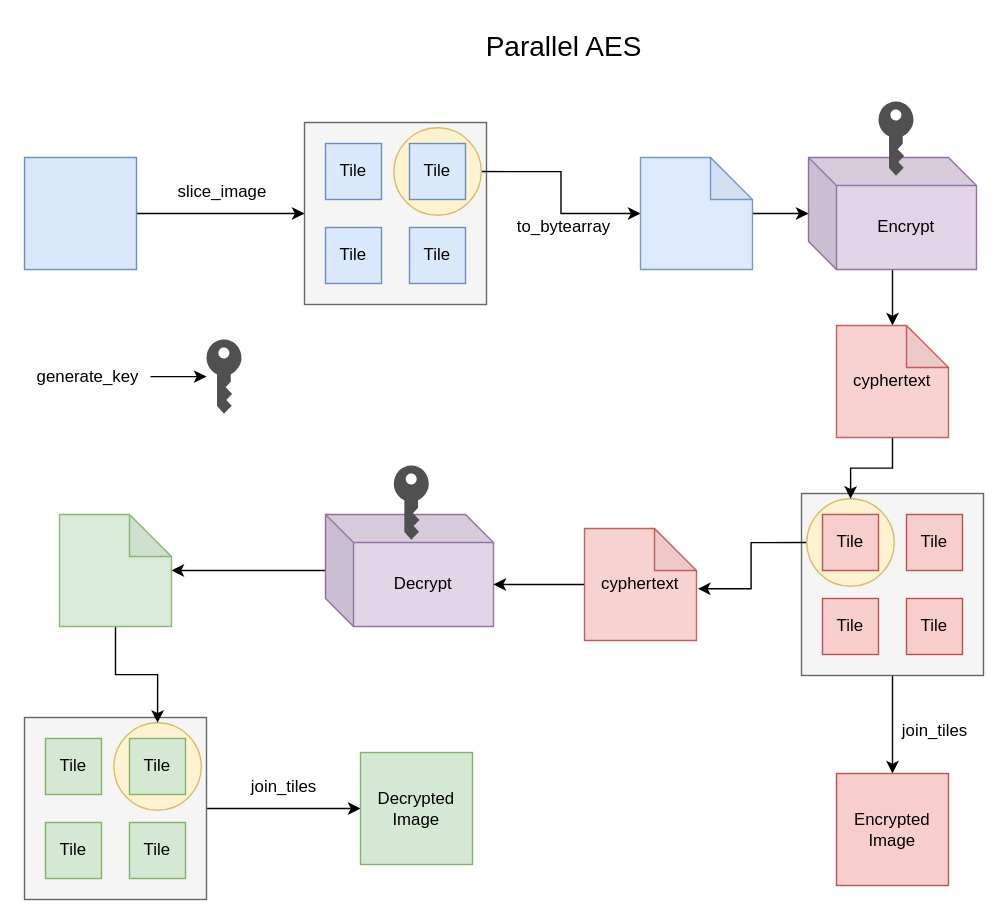
Image size: 1008x924. Some labels were removed from this diagram. The shapes that lost their labels are listed below. From the top down, each one's centre as x and y in pixels, then its label:
At point 79,213: "Image".
At point 695,213: "message".
At point 115,569: "cleartext".
